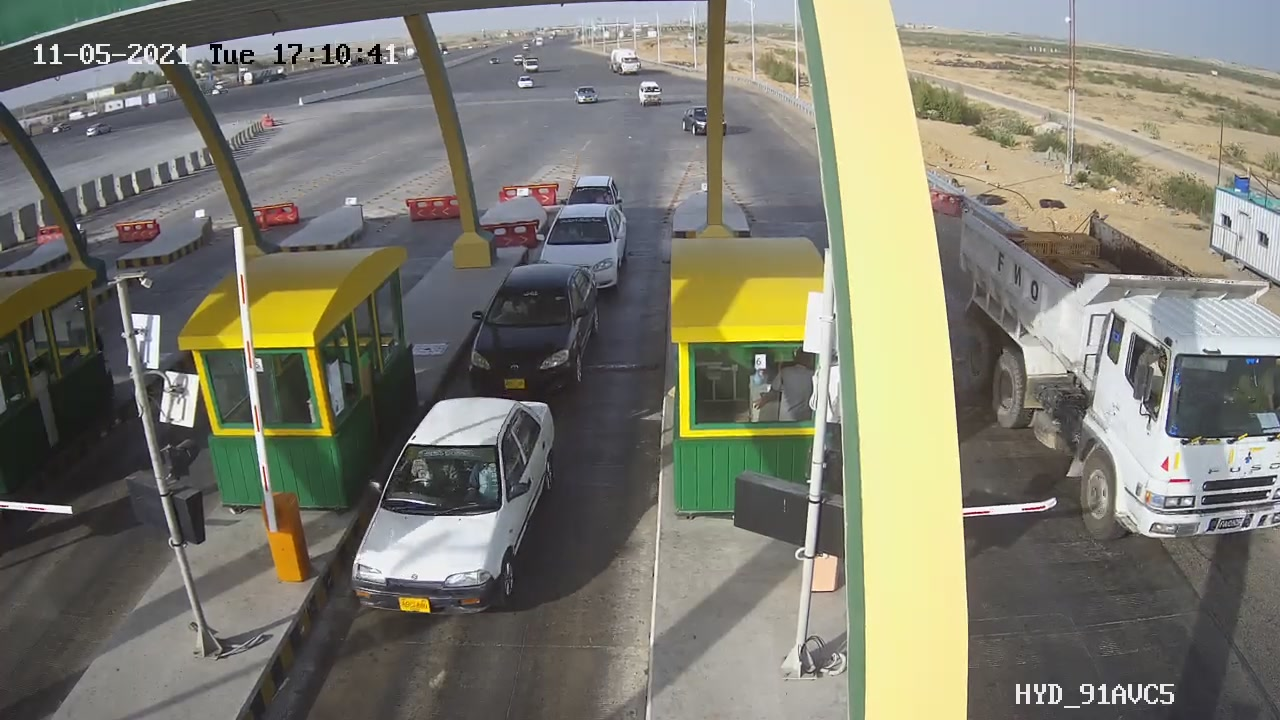F1: (335, 382, 573, 642), (442, 251, 616, 416)
